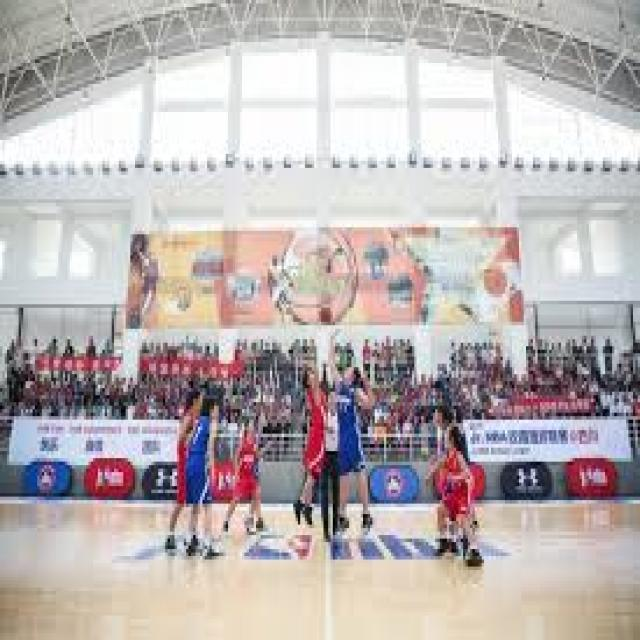rim: (319, 300, 333, 326)
